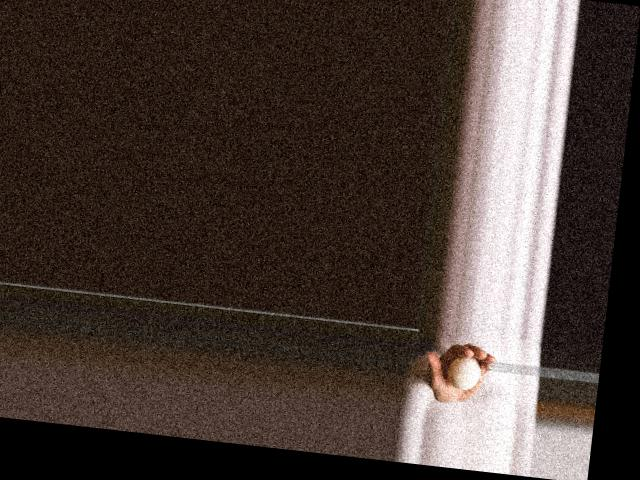egg: (446, 354, 482, 391)
